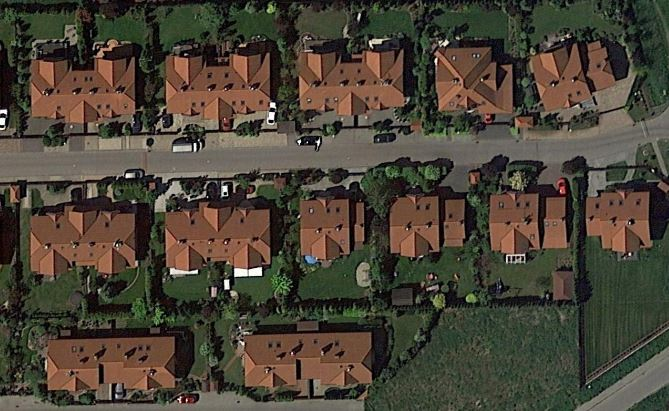family house: (525, 33, 621, 113), (431, 44, 516, 117), (486, 189, 571, 256), (580, 186, 657, 256), (388, 191, 468, 258), (294, 194, 367, 261)
terrace house: (40, 329, 179, 394), (241, 327, 380, 392), (292, 43, 406, 117), (27, 205, 141, 279), (164, 201, 278, 275), (27, 55, 140, 124), (162, 48, 275, 117)
